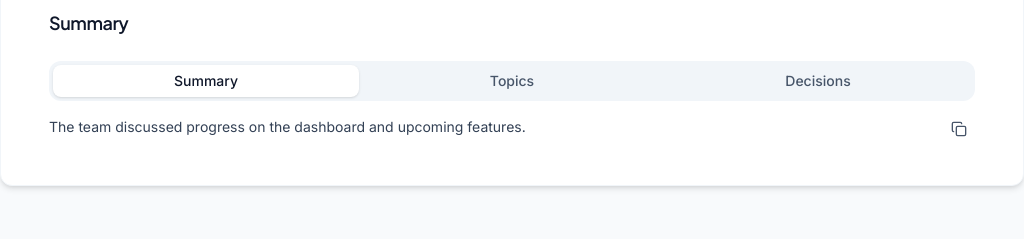
Test case: SummaryPanel › should show empty state for topics when none exist
Click the tab "Topics" at coordinates (512, 81), box [359,65,665,97]
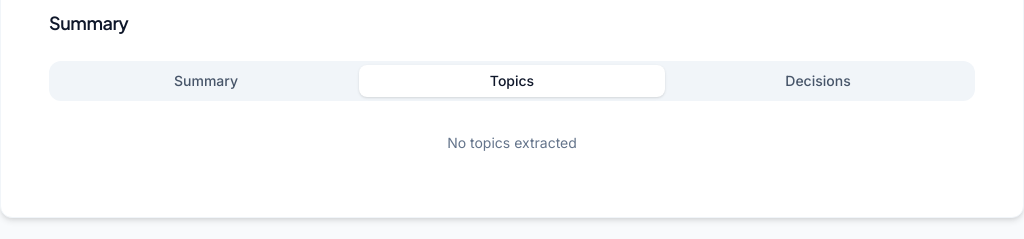
Expected: the text "No topics extracted" is shown, [447,134,577,151]
